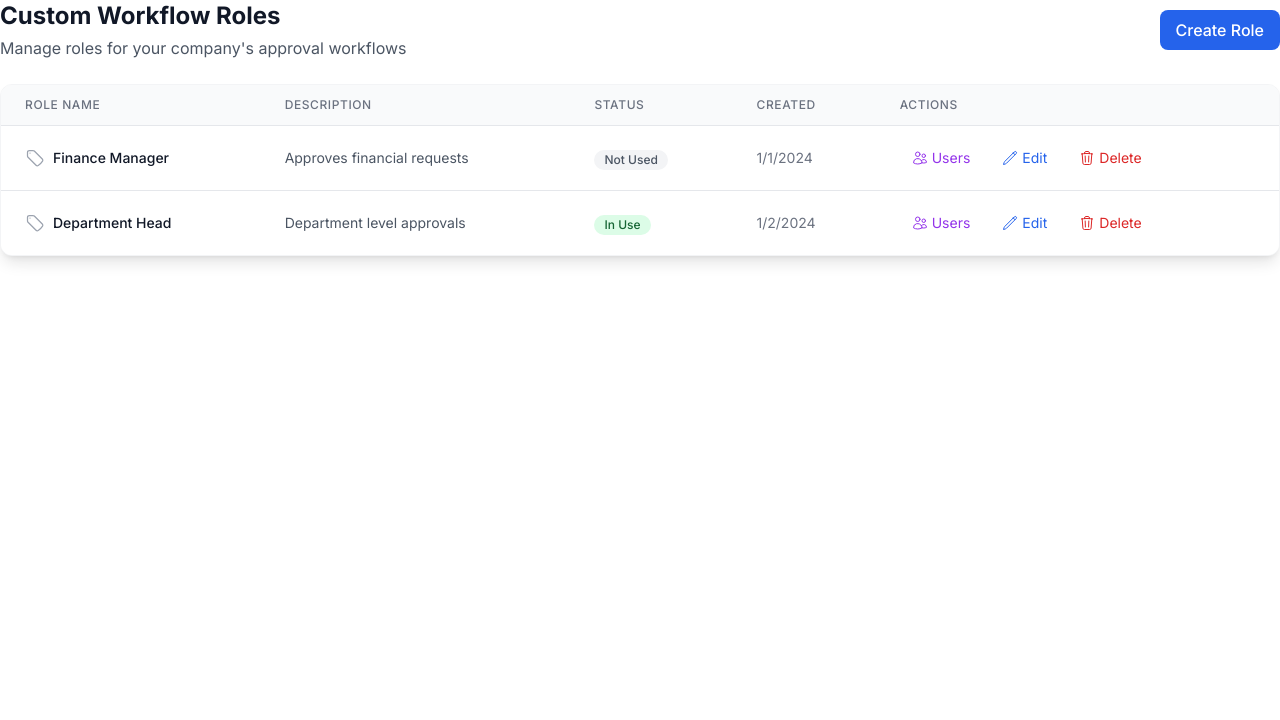
Test case: RoleManagement - Role Deletion with Protection › Confirmation Dialog › should show warning message for roles in use
Expected: the text "Department Head" is shown, [53,213,172,233]
Click the button "Delete" in the row of "Department Head".
click(1110, 223)  # box [1067,207,1154,239]
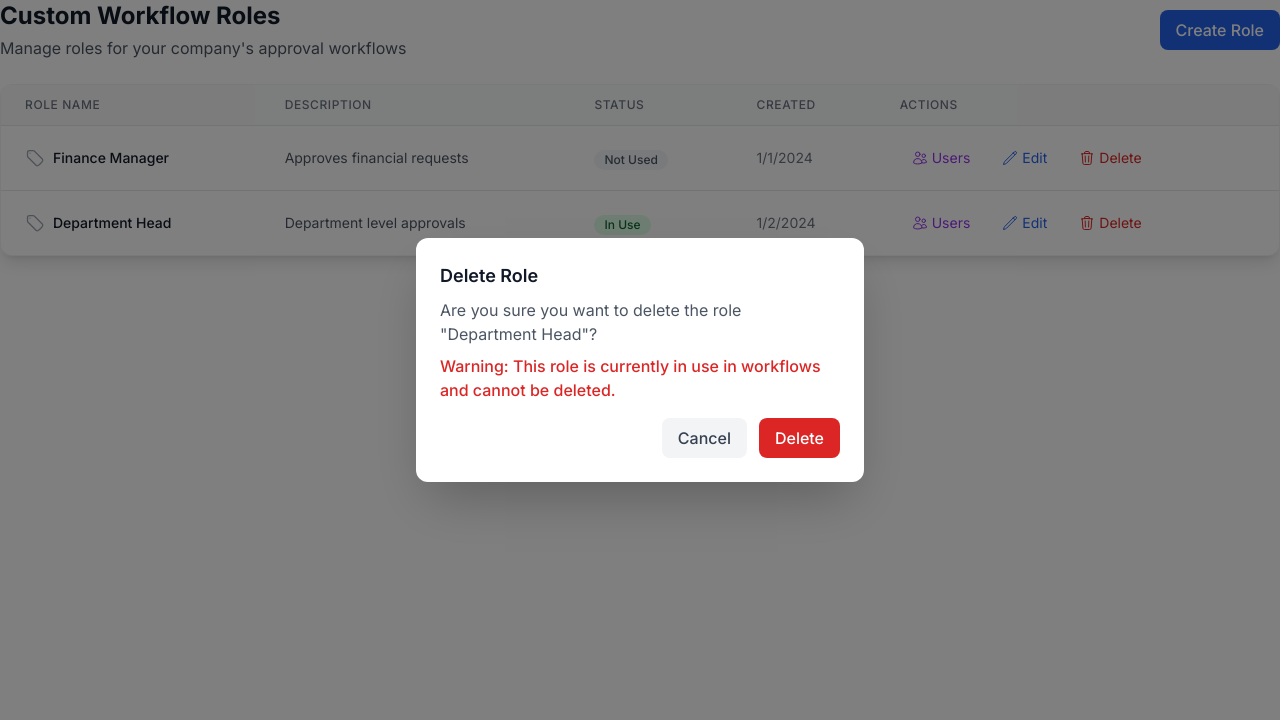
Now the text "Warning: This role is currently in use in workflows and cannot be deleted" is shown, box [440,356,820,400]
